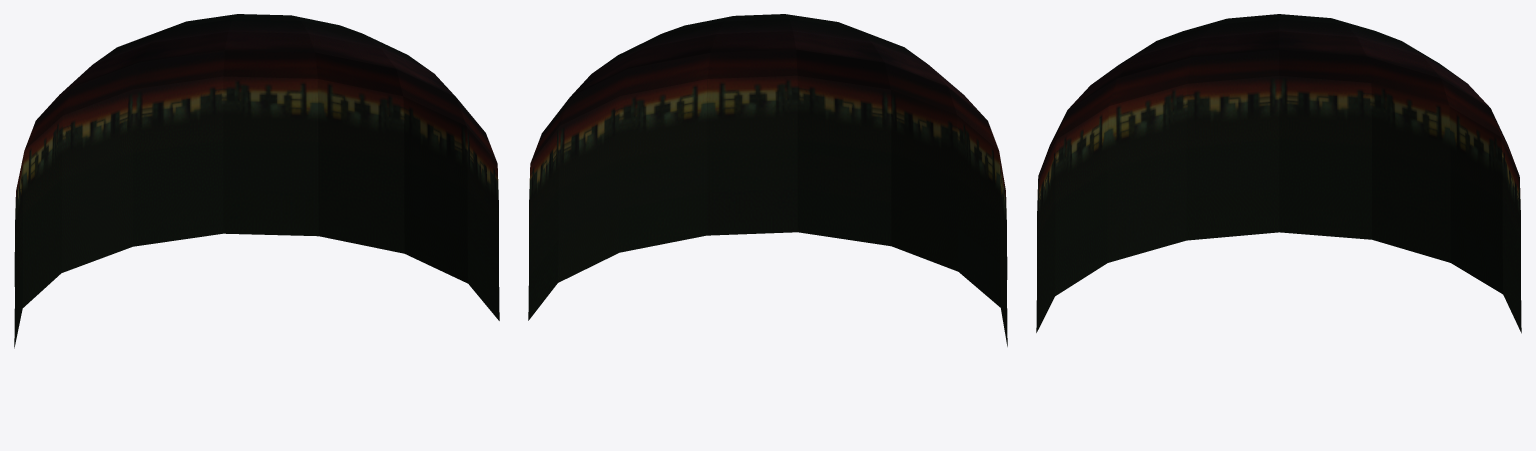
File: Track_07_sky.glb
3 renders of one model, left to right at view 1: azimuth 30°, elevation 25°; view 2: azimuth 150°, elevation 25°; view 3: azimuth 270°, elevation 25°, orthographic.
Visible parts, largest first — view 1: Mesh_0; view 2: Mesh_0; view 3: Mesh_0.
Boxes of the visible parts, x1,y1,x2,y2 form: Mesh_0: (14,14,499,348); Mesh_0: (528,14,1007,346); Mesh_0: (1036,14,1521,333).
Bounding box in the file's own units: 366 × 243 × 366.
Materials: 1 (1 with a texture image).
